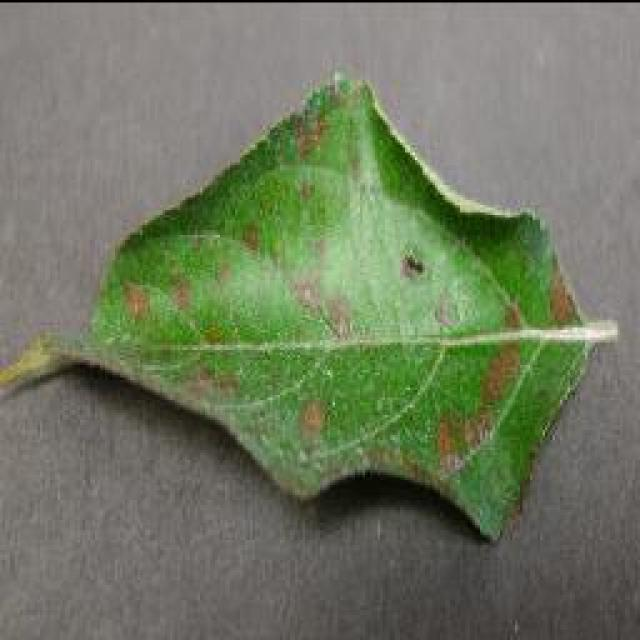apple cedar apple rust: (0, 68, 620, 542)
